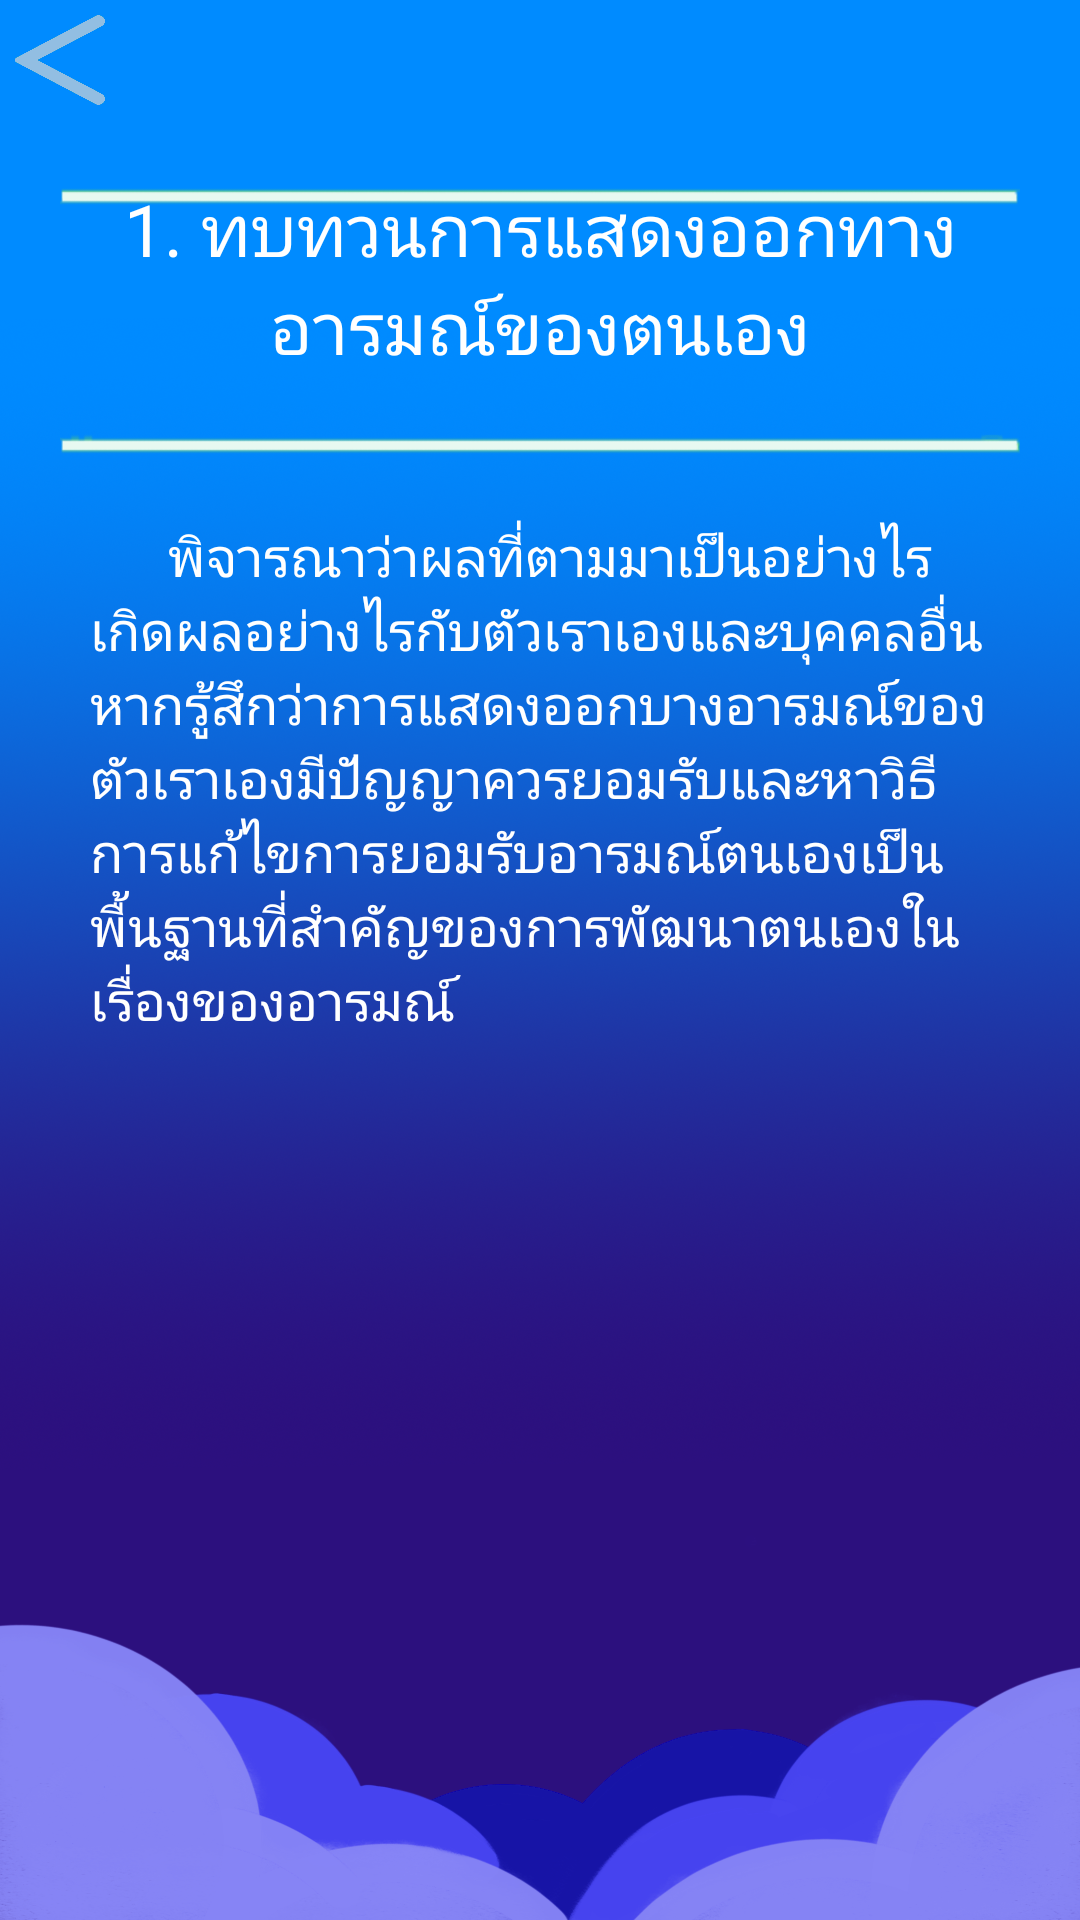

Icon bounding boxes for this 1080w x 1920h phone screenshot, format detection(x1, y1, x2, y2):
backbut: detection(15, 15, 105, 105)
